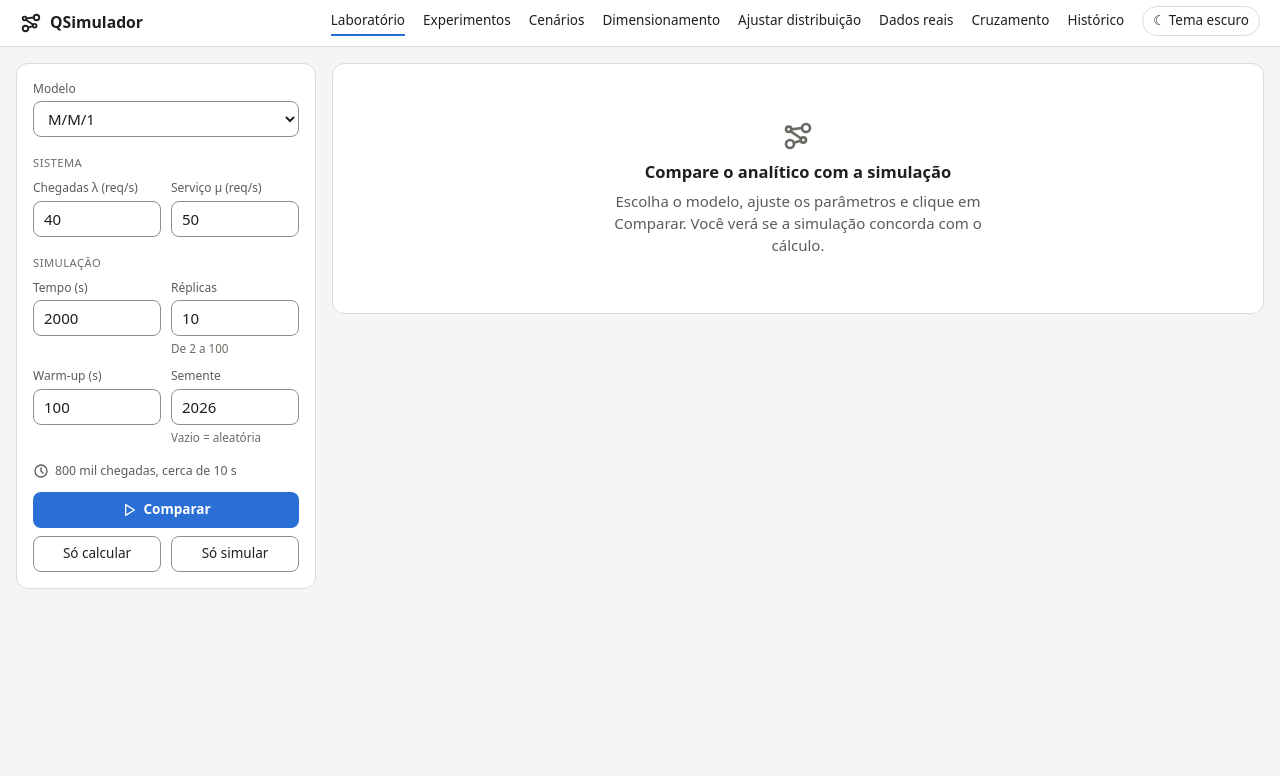
Test: aba Dimensionamento › Erlang-B: pede o bloqueio alvo (sem t) e o custo da perda
Select "Erlang-B (perda)" in the dropdown labelled "Modelo". click: (166, 119)
box: [33, 101, 299, 137]
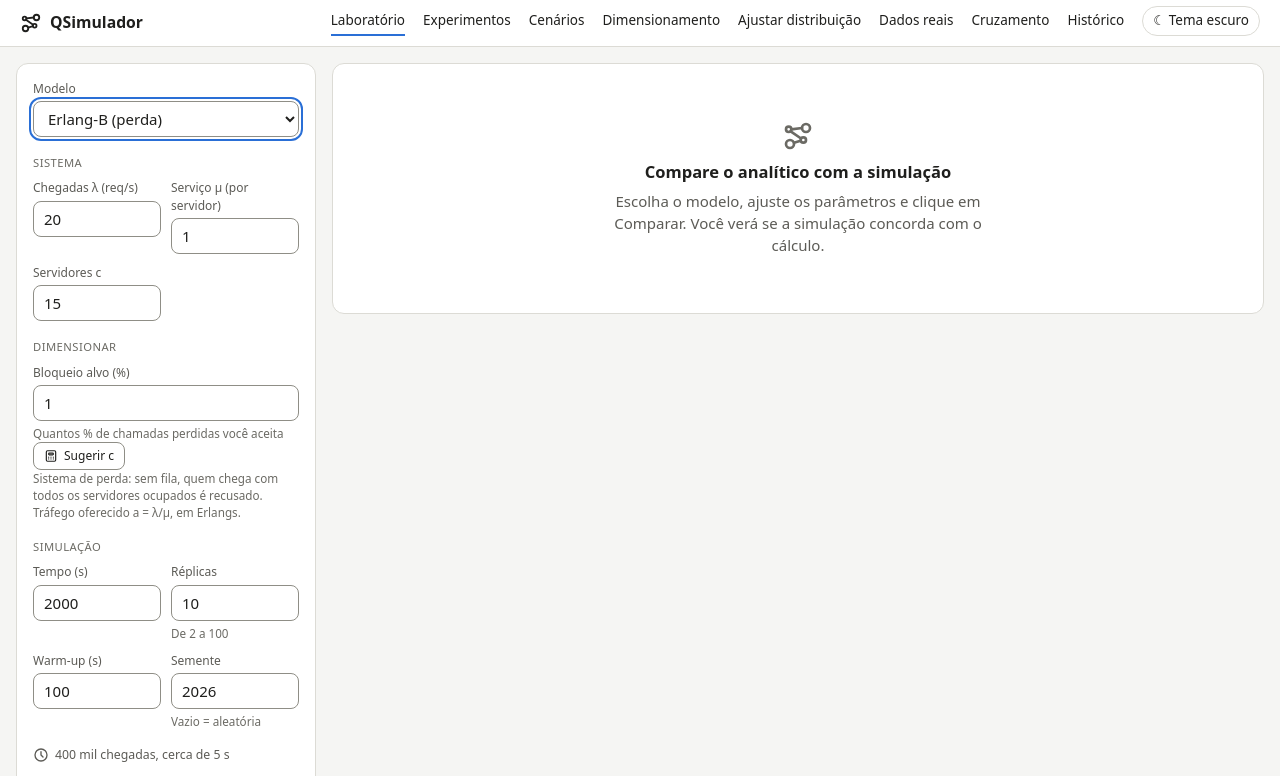
Click the button "Dimensionamento". click: (661, 23)
box: [602, 10, 720, 36]
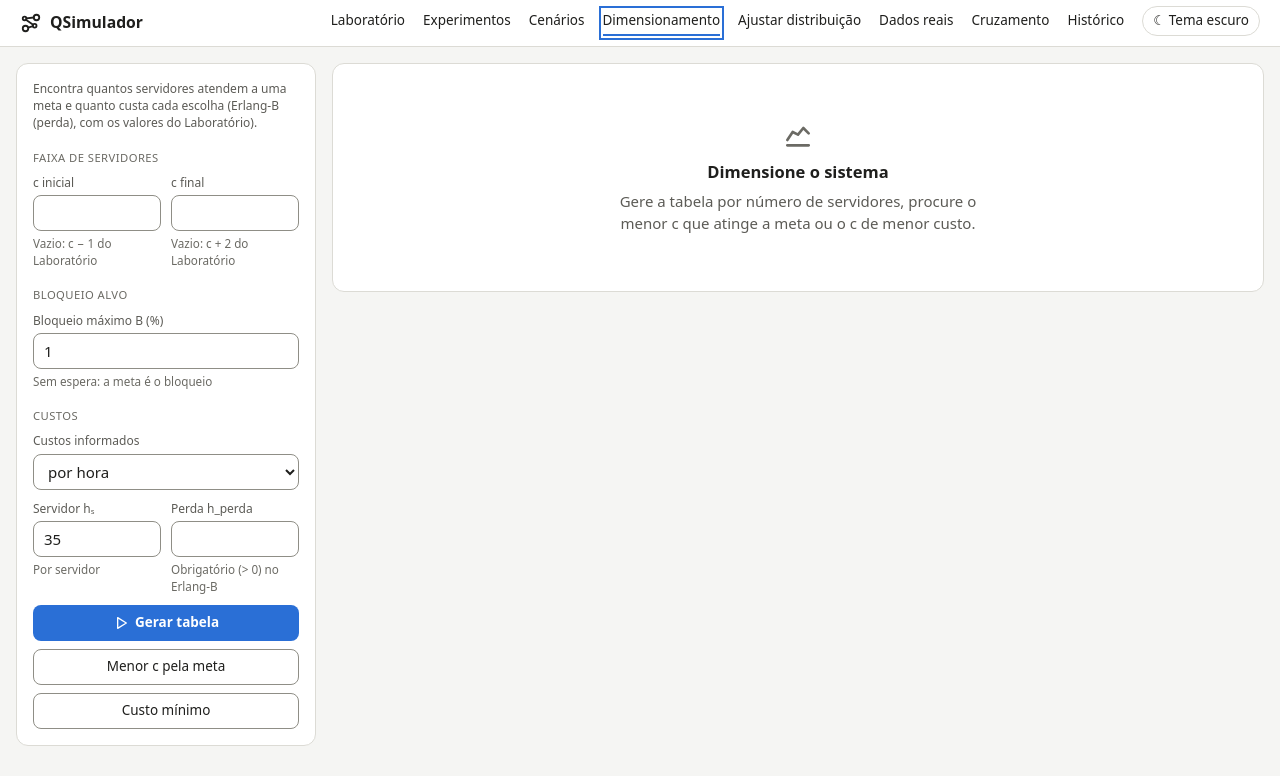
Expected: the field labelled "Bloqueio máximo B (%)" is shown, [33, 333, 299, 369]
Expected: the field labelled "Perda h_perda" is shown, [171, 521, 299, 557]
Click the button "Menor c pela meta". click: (166, 667)
box: [33, 649, 299, 685]
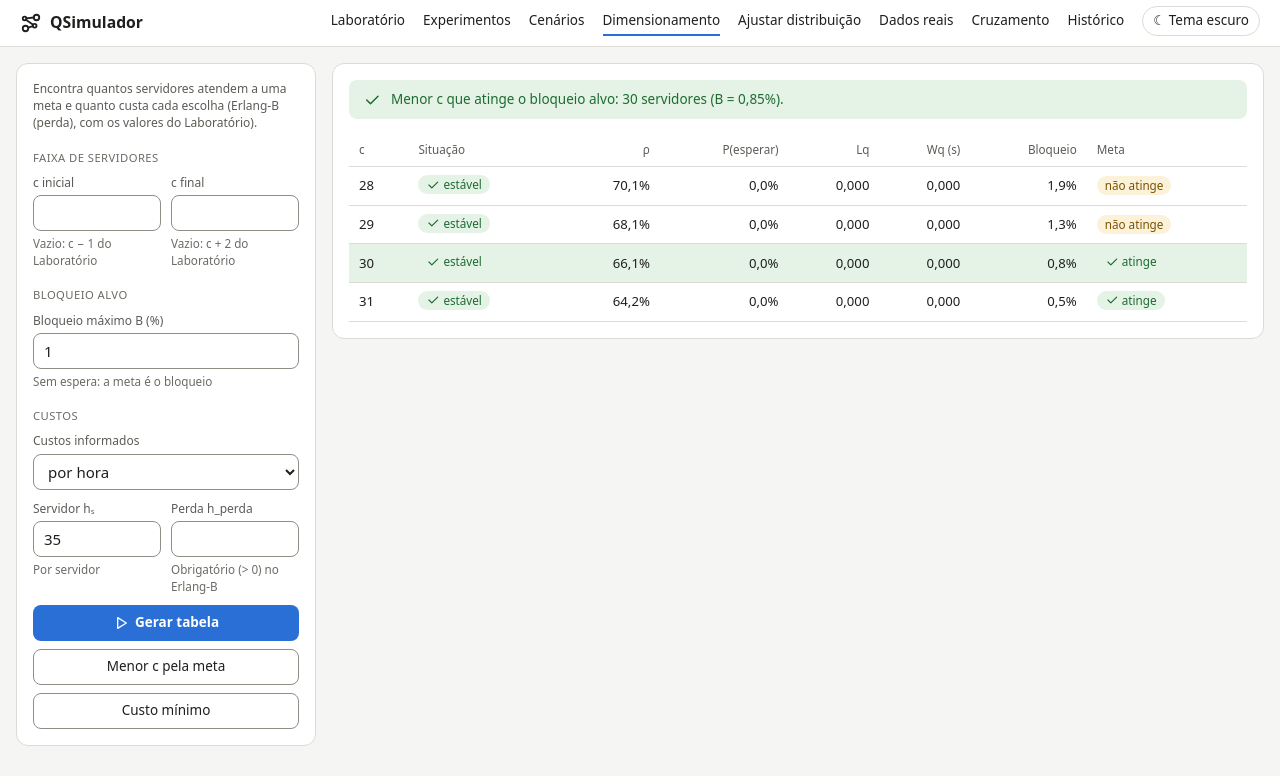
Expected: the text "Menor c que atinge o bloqueio alvo: 30 servidores" is shown, [391, 90, 784, 108]
